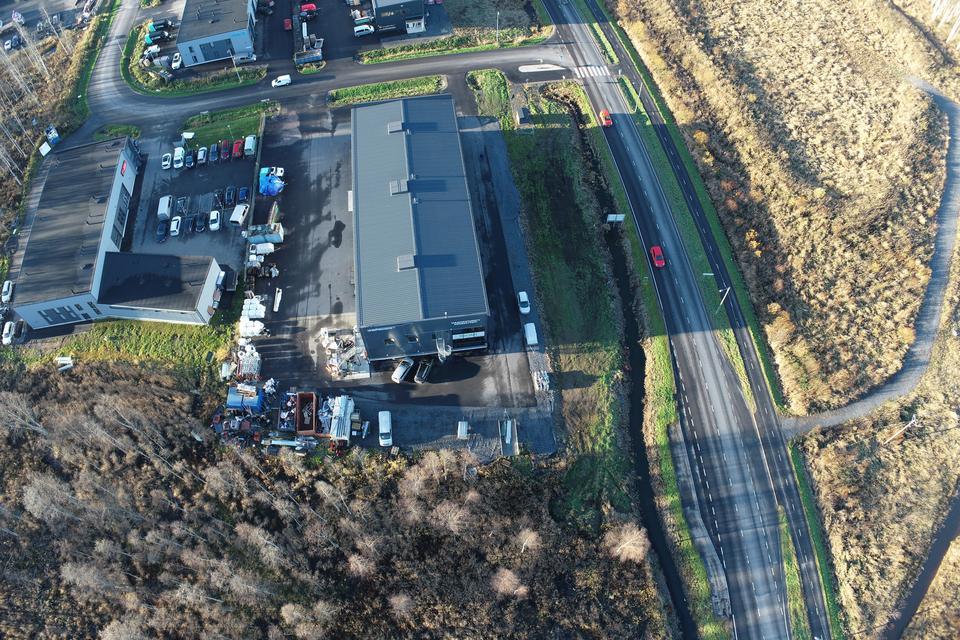intersection: (651, 379, 830, 470), (493, 25, 657, 87)
